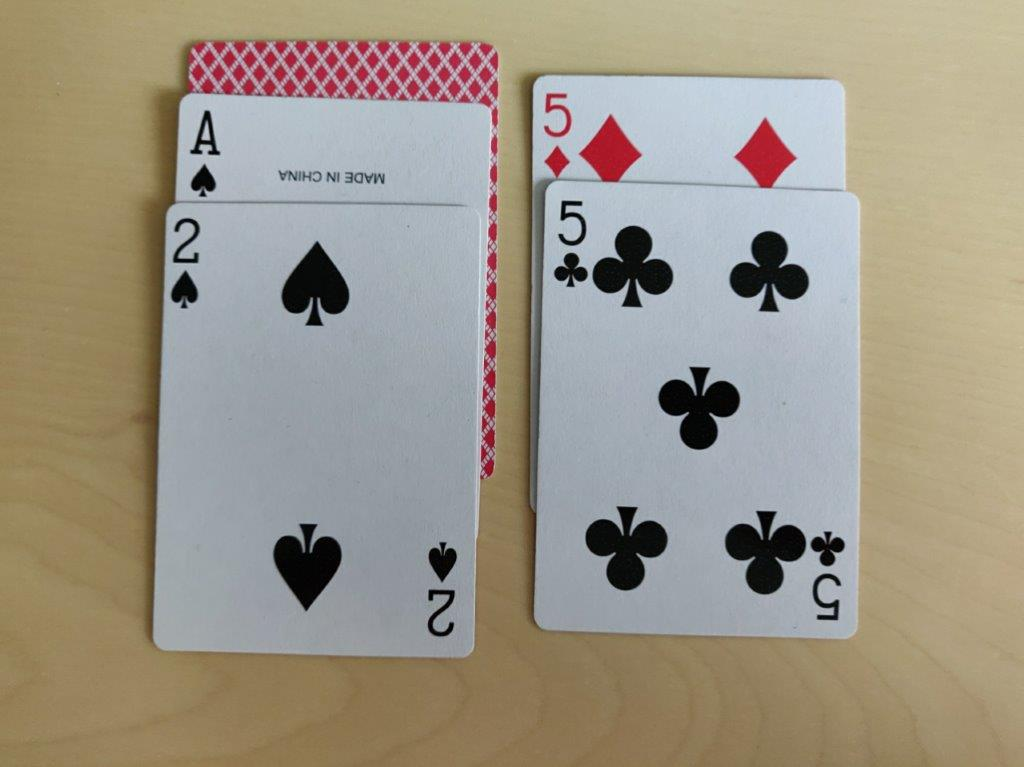2S: (166, 212, 205, 315)
5C: (549, 194, 591, 294)
5D: (535, 84, 580, 182)
AS: (180, 102, 230, 203)
BACK: (184, 36, 506, 103)
